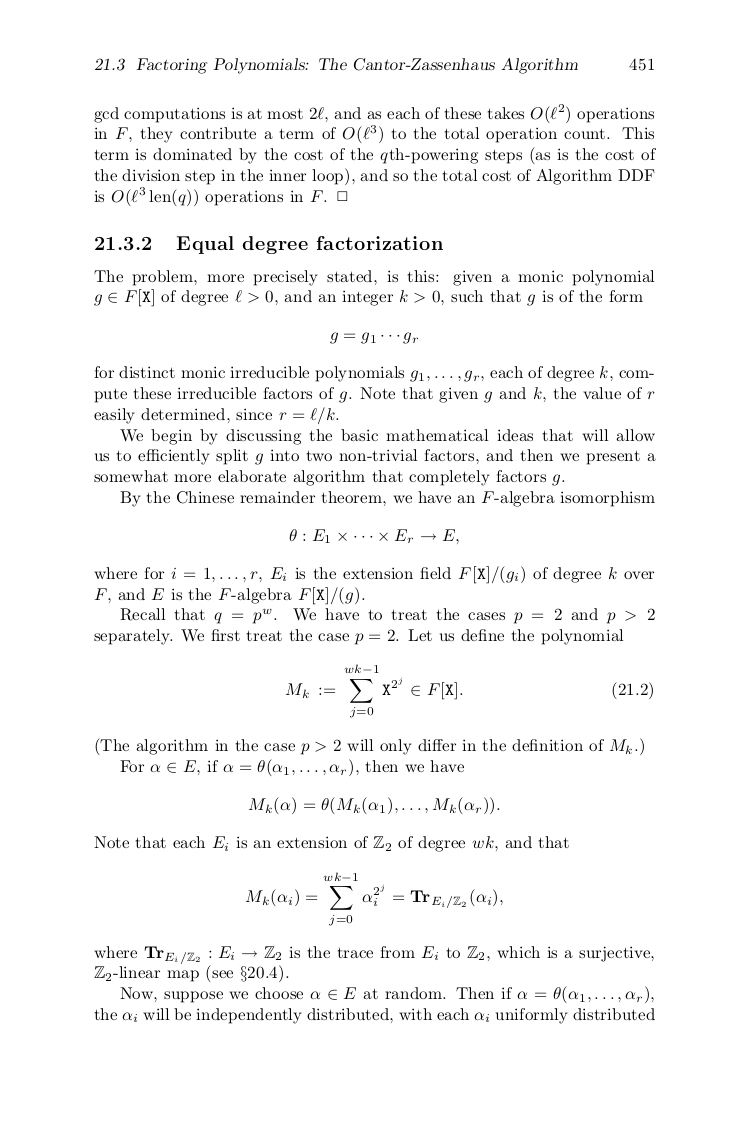formula: (285, 664, 652, 717), (245, 872, 502, 925), (248, 796, 499, 815), (289, 528, 458, 544), (330, 331, 418, 344)
